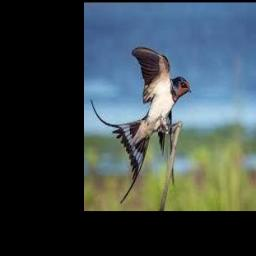Swallow: (91, 47, 190, 205)
